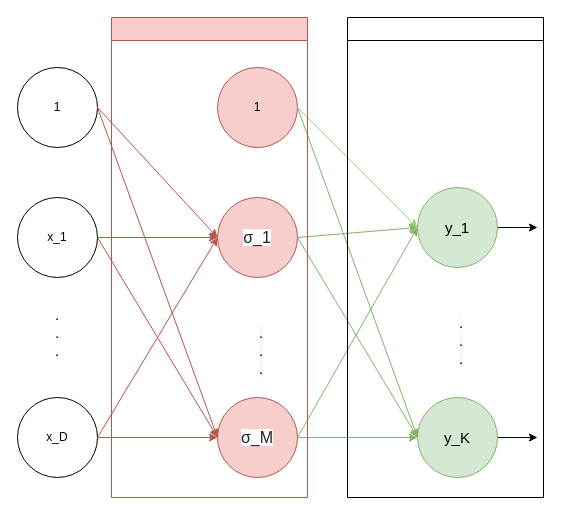
Image size: 563x515. Some labels were removed from this diagram. Each missing label, with the centre of its shape:
"Capa oculta" goes at pixel 209 257.
"Capa salida" goes at pixel 445 257.
